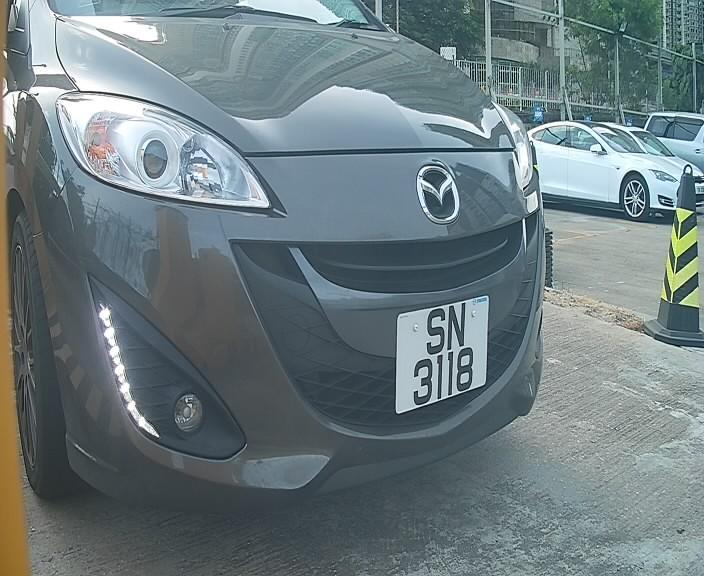privatecar: (19, 21, 566, 507)
